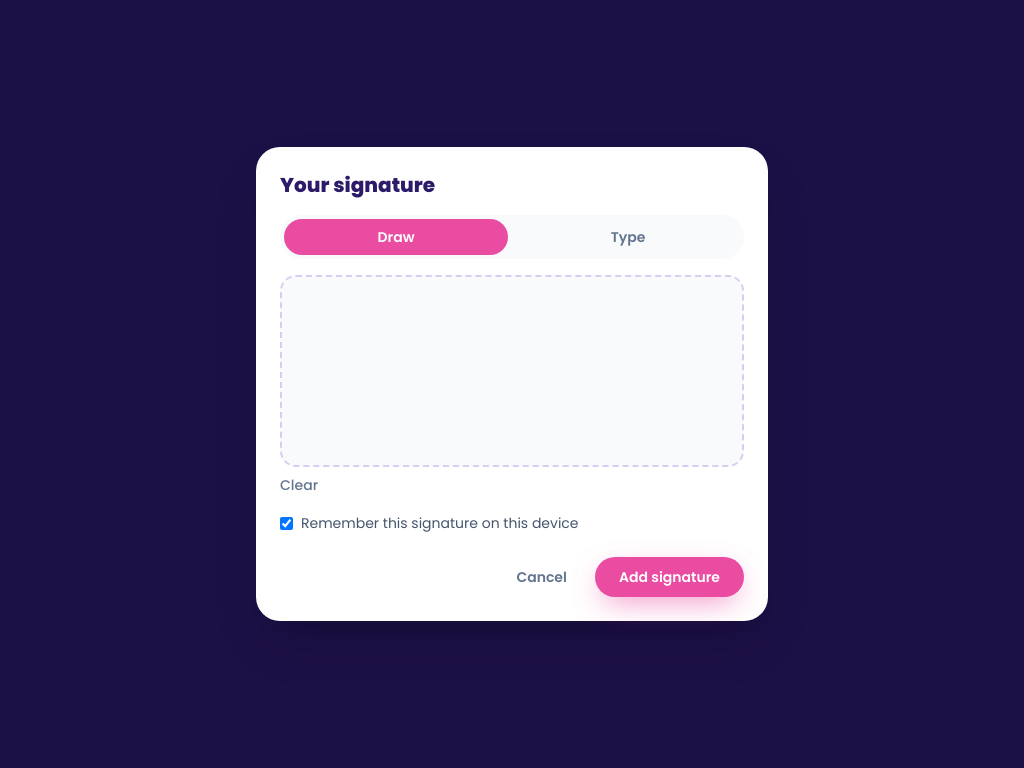
Scenario: SignatureModal › shows the Draw tab by default and switches to Type
Expected: the button "Clear" is shown, [280, 475, 318, 495]
Click the button "Type".
click(628, 237)  # box [516, 219, 740, 255]
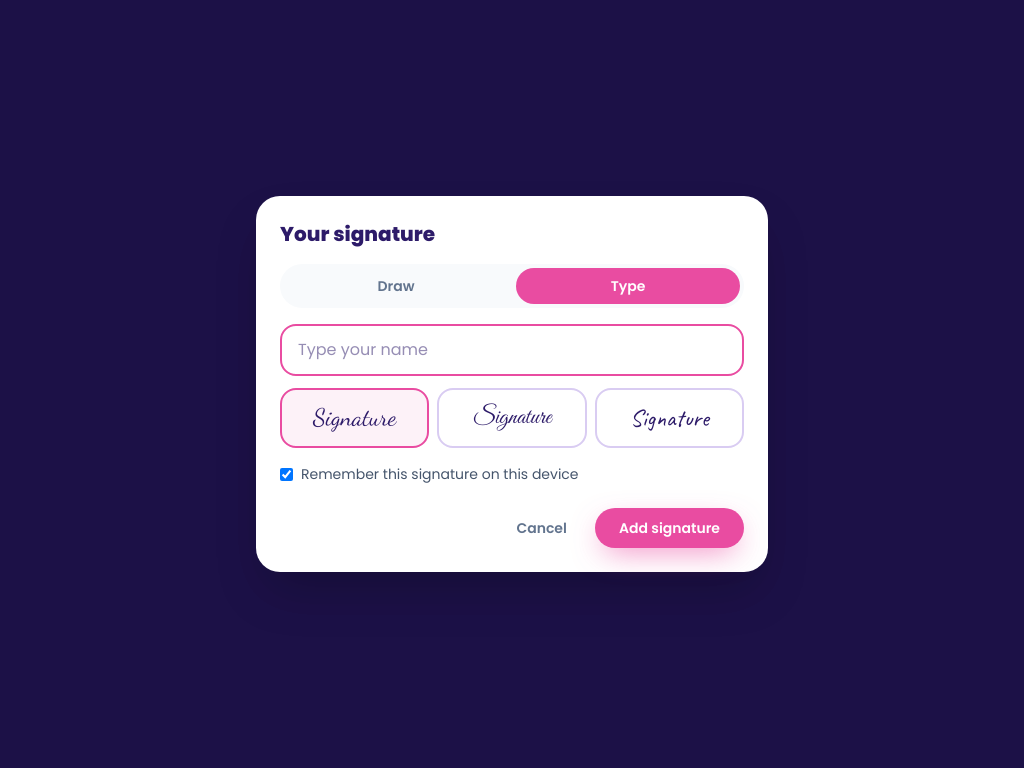
Now the field with placeholder "Type your name" is shown, box [280, 324, 744, 376]
Now the number of radio buttons is 3, box [280, 388, 429, 448]; [437, 388, 587, 448]; [595, 388, 744, 448]
